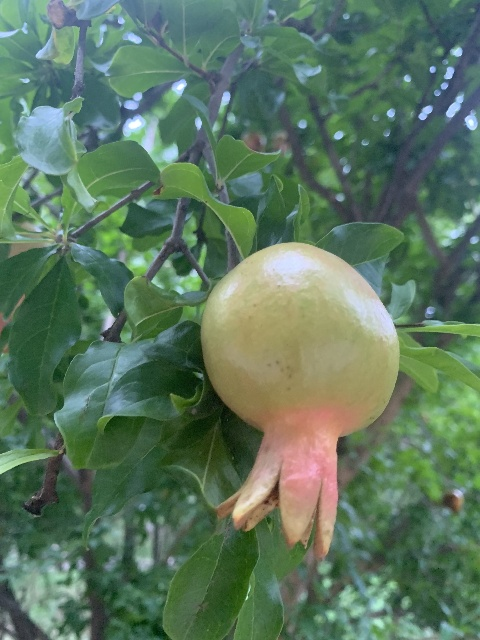mid-growth: (199, 241, 401, 560)
